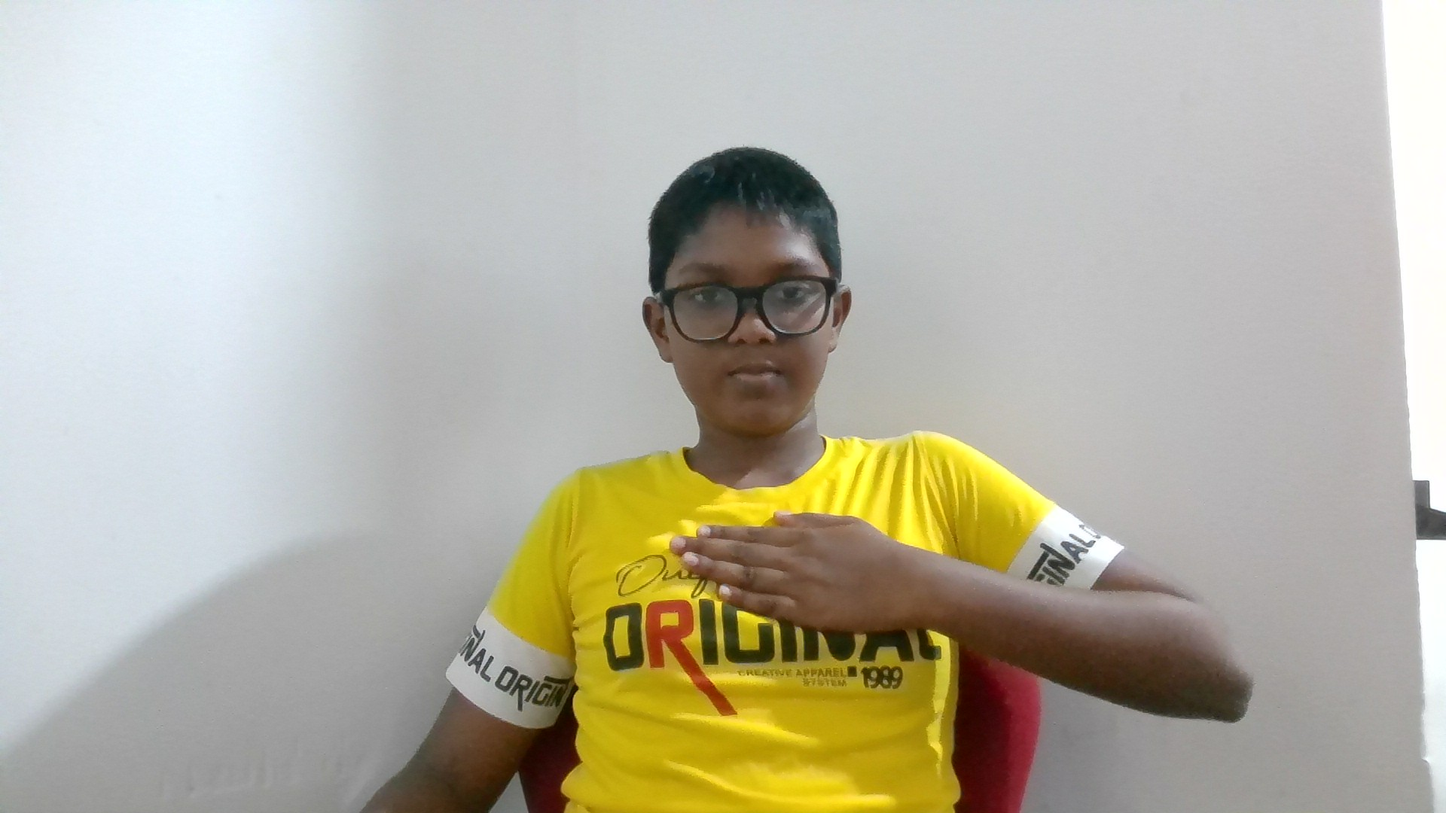Please: (602, 501, 981, 699)
